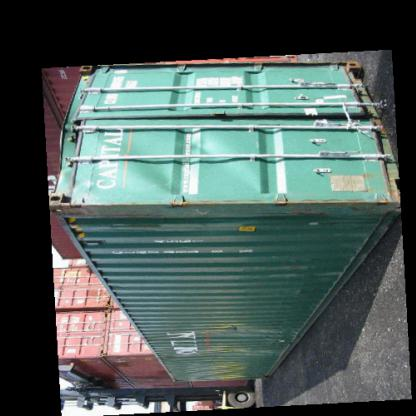Damage: (55, 90, 182, 218), (168, 317, 286, 385), (296, 167, 392, 226), (280, 242, 340, 300)
